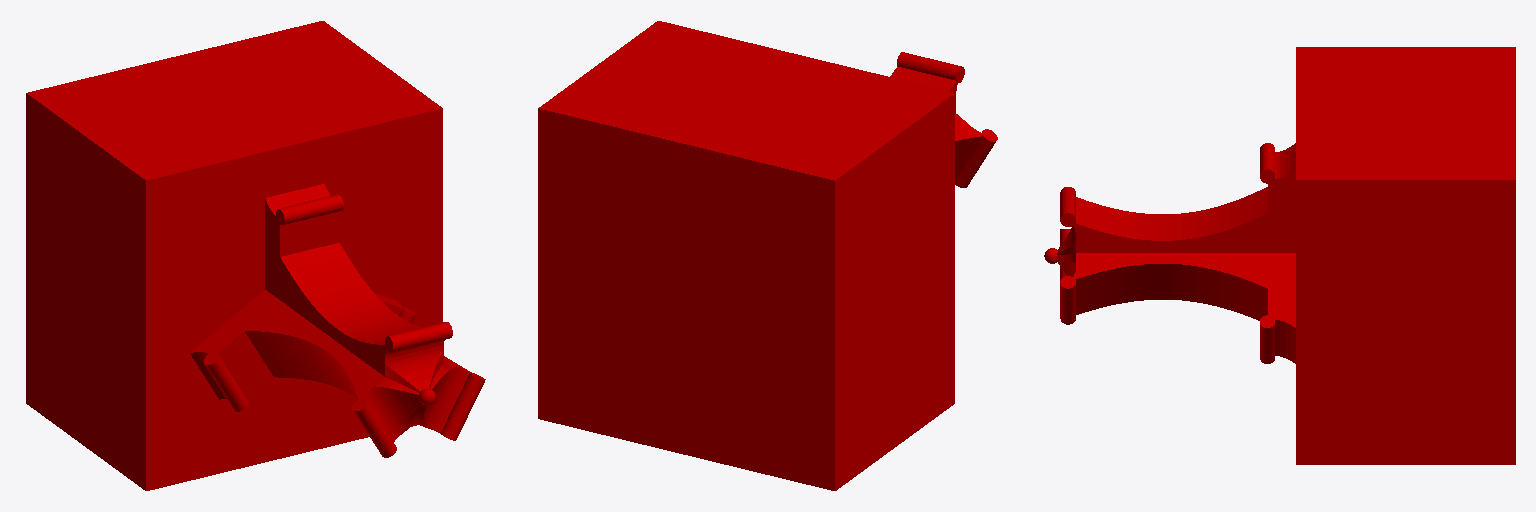
The robot description file, URDF, robot "triangle":
<?xml version="1.0" ?>
<robot name="triangle">
  <link name="baseLink">
    <contact>
      <lateral_friction value="0.2"/>
      <rolling_friction value="0.0"/>
	<restitution value="0.0" />
    </contact>
    <inertial>
      <origin rpy="0 0 0" xyz="0 0 0"/>
       <mass value="10"/>
       <inertia ixx="0" ixy="0" ixz="0" iyy="0" iyz="0" izz="0"/>
    </inertial>
    <visual>
      <origin rpy="0 0 0" xyz="0 0 0"/>
      <geometry>
		<mesh filename="./peg_3d3.obj" scale="0.1 0.1 0.1"/>
      </geometry>
       <material name="red">
        <color rgba="0.8 0 0 1"/>
      </material>
    </visual>
    <collision>
      <origin rpy="0 0 0" xyz="0 0 0"/>
      <geometry>
	 	<mesh filename="./peg_3d3.obj" scale="0.1 0.1 0.1"/>
      </geometry>
    </collision>
  </link>
</robot>

--- What the picture shows (computed from the rendered views, not written in the file) ---
3 views of the same robot in one strip: view 1: azimuth 30°, elevation 25°; view 2: azimuth 150°, elevation 25°; view 3: azimuth 270°, elevation 25° (orthographic).
Model triangle with 1 links and 0 joints (none), rooted at baseLink, posed every joint at zero.
Links seen in each view (by area): view 1: baseLink; view 2: baseLink; view 3: baseLink.
Boxes of the visible links, bbox=[...] form: baseLink: bbox=[26, 21, 485, 490]; baseLink: bbox=[538, 21, 997, 490]; baseLink: bbox=[1044, 47, 1515, 464].
Size in the robot's own frame: 1 by 1.5 by 1 metres.
Meshes: 1 distinct files referenced, 1 mesh visuals loaded (1 OBJ).